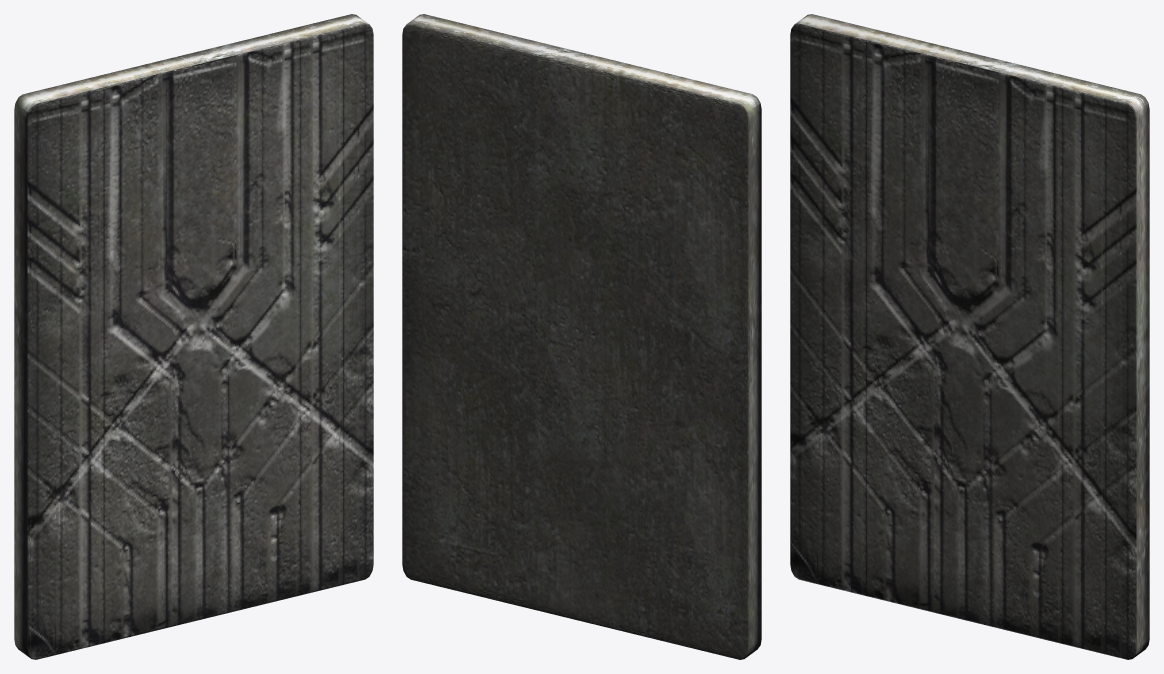
Rendered from door aniamtion2blend.fbx.
The picture shows the model from 3 angles, left to right: view 1: azimuth 30°, elevation 25°; view 2: azimuth 150°, elevation 25°; view 3: azimuth 330°, elevation 25°; orthographic projection.
Visible parts, largest first — view 1: Cube.032; view 2: Cube.032; view 3: Cube.032.
Boxes of the visible parts, x1,y1,x2,y2 form: Cube.032: (14, 14, 373, 659); Cube.032: (402, 14, 761, 659); Cube.032: (790, 14, 1149, 659).
Size of the model in its own units: 113 by 174 by 7.82.
